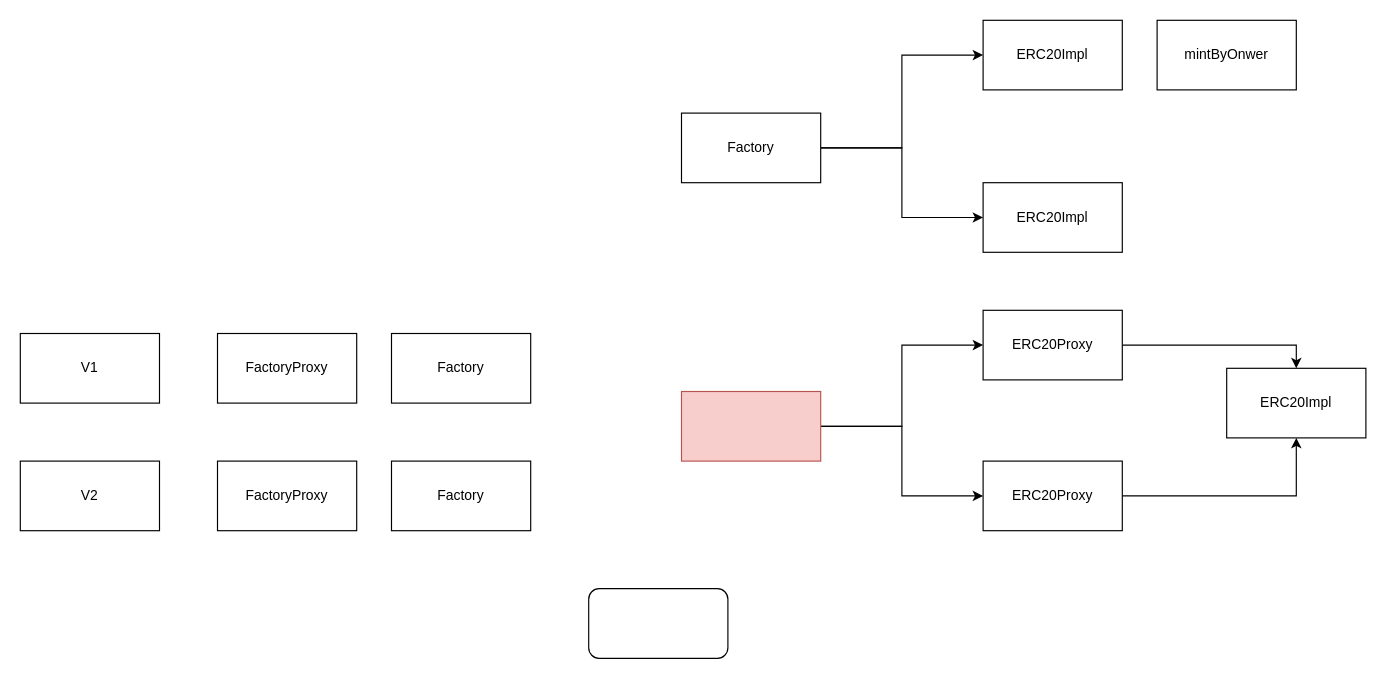
Image size: 1386x679. Some labels were removed from this diagram. Each missing label, with the box of its shape:
Factory升级: (680, 390, 821, 461)
升级：工厂逻辑（mint+生成token方式）: (588, 588, 728, 658)
